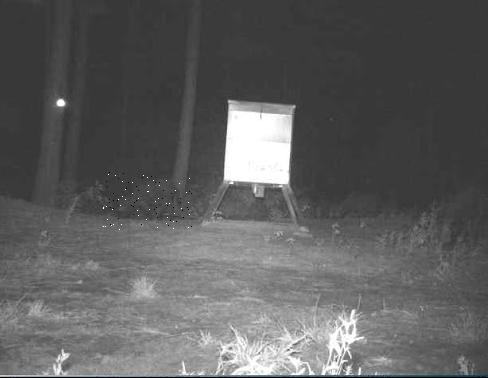Hog: (103, 172, 193, 230)
